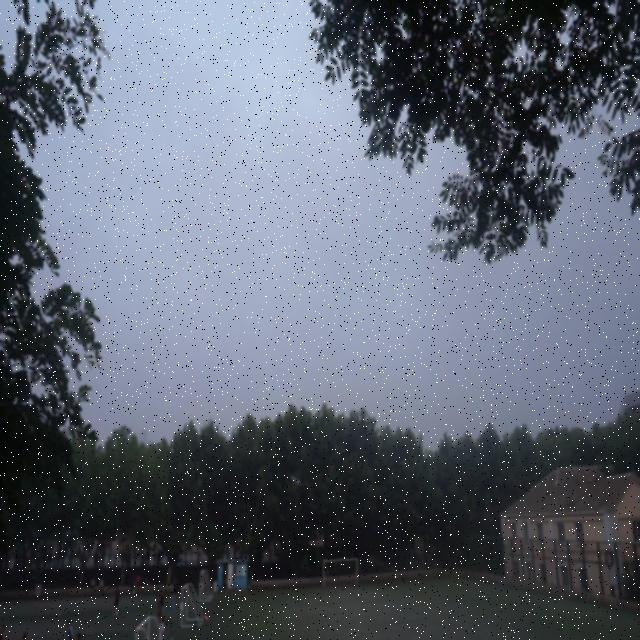UAV: (290, 476, 302, 485)
